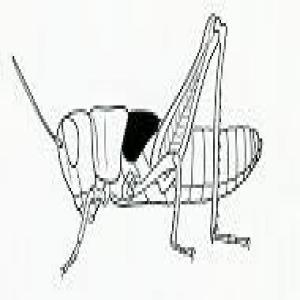locust: (17, 47, 282, 275)
